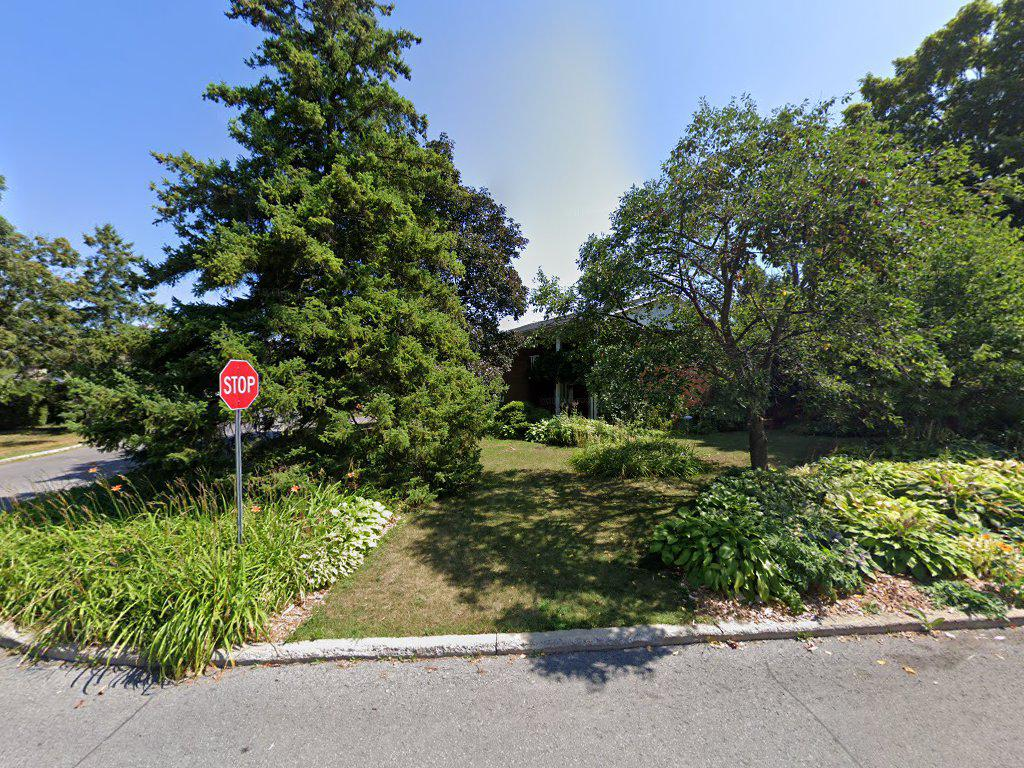trunk: (745, 404, 777, 475)
